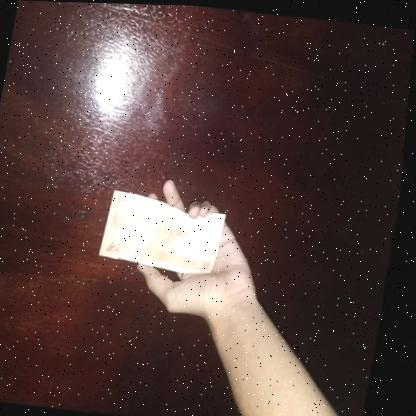vef_back: (101, 188, 232, 276)
